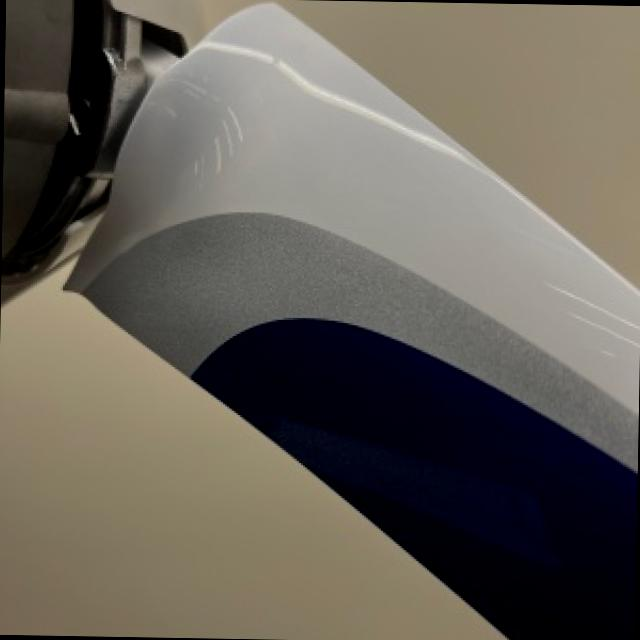healthy: (0, 269, 499, 640)
